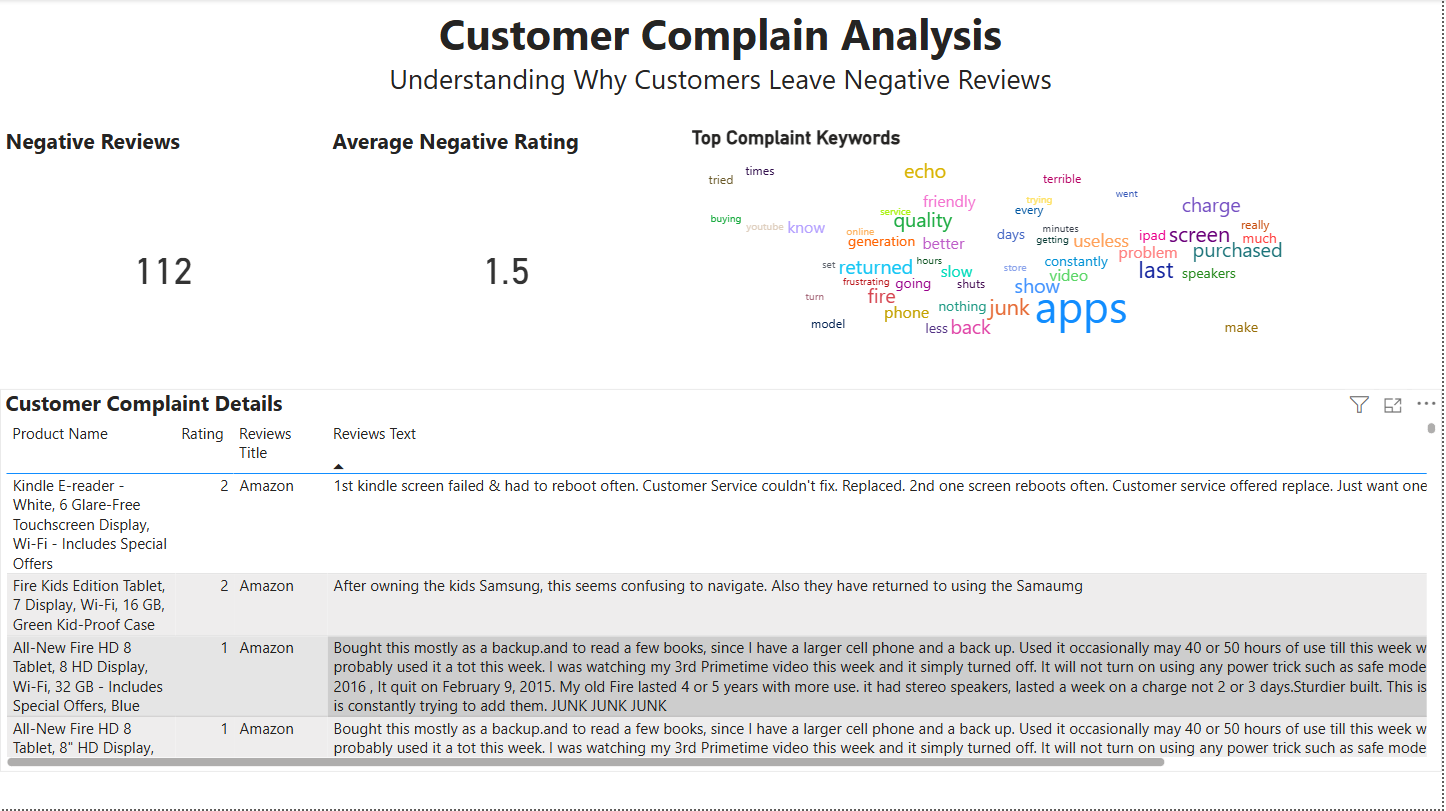

What the dashboard file says about the page in this screenshot:
{"tool":"powerbi","page":{"name":"Customer Complaint Analysis","canvas":[1280,720],"ordinal":1},"visuals":[{"type":"advanceCardE03760C5AB684758B56AA29F9E6C257B","title":"Negative Reviews","fields":{"mainMeasure":["CountNonNull(negative_review.reviews.text)"]},"box":[0,112.8,290.3,233.4],"z":0},{"type":"advanceCardE03760C5AB684758B56AA29F9E6C257B","title":"Average Negative Rating","fields":{"mainMeasure":["Avg(negative_review.reviews.rating)"]},"box":[290.3,112.8,319.3,232.3],"z":1000},{"type":"WordCloud1447959067750","title":"Top Complaint Keywords","fields":{"Category":["complaint_keywords.Word"],"Values":["Sum(complaint_keywords.Frequency)"]},"box":[609.7,112.8,670,233.4],"z":2000},{"type":"tableEx","title":"Customer Complaint Details","fields":{"Values":["negative_review.name","Sum(negative_review.reviews.rating)","negative_review.brand","negative_review.reviews.text"]},"box":[0,346.1,1280.7,340.6],"z":3000},{"type":"textbox","box":[0,0,1279.6,93.8],"z":4000}]}

Visuals, with their boxes in screenshot pixels (x1, y1, x2, y2), scaled from the page's 1280x720 canvas onto the 1446x811 screenshot:
"Negative Reviews" advanceCardE03760C5AB684758B56AA29F9E6C257B: 0/127/328/390
"Average Negative Rating" advanceCardE03760C5AB684758B56AA29F9E6C257B: 328/127/689/389
"Top Complaint Keywords" WordCloud1447959067750: 689/127/1445/390
"Customer Complaint Details" tableEx: 0/390/1445/773
textbox: 0/0/1445/106
